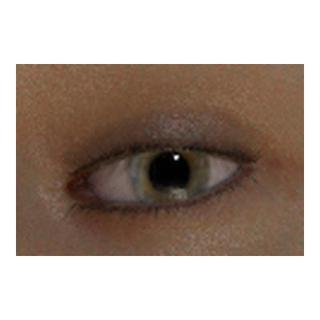pupil: (149, 152, 190, 194)
